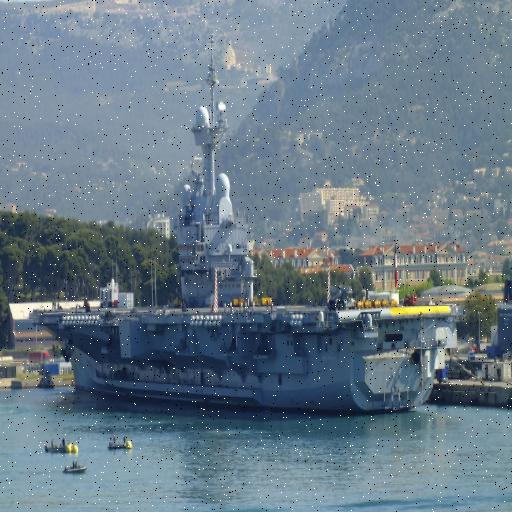Portanaves: (30, 25, 458, 419)
